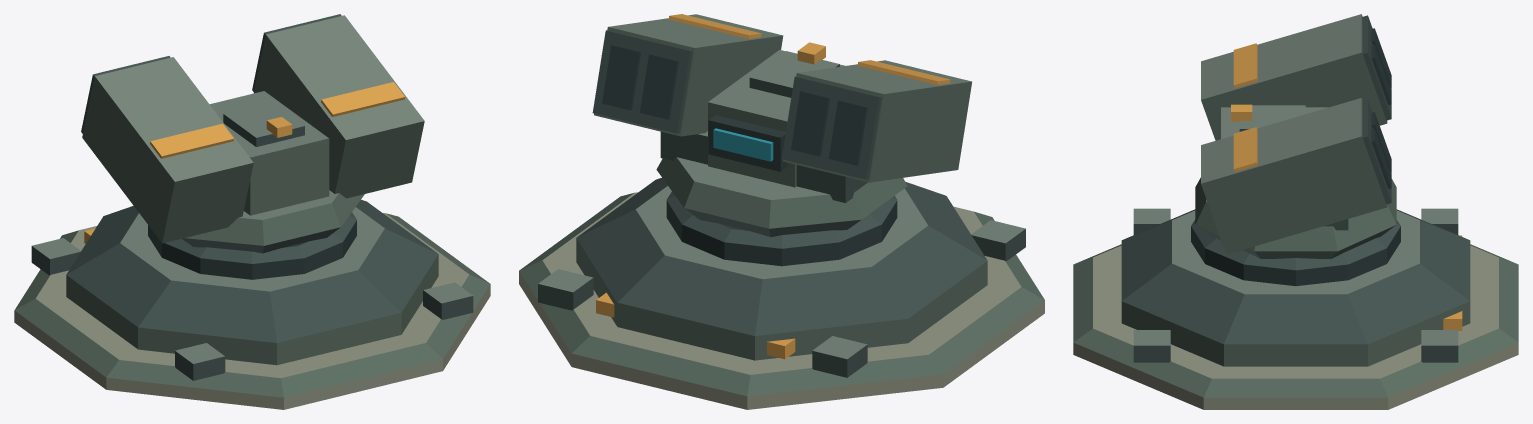
Rendered from MT-01-Sentinel.fbx.
3 renders of one model, left to right at view 1: azimuth 30°, elevation 25°; view 2: azimuth 150°, elevation 25°; view 3: azimuth 270°, elevation 25°, orthographic. The views are drawn at different scales.
Parts seen in each view (by area): view 1: Base, HeadMesh; view 2: Base, HeadMesh; view 3: Base, HeadMesh.
Part boxes in pixels (x1,y1,x2,y2): Base: (14, 199, 490, 409); HeadMesh: (81, 14, 424, 253); Base: (519, 178, 1044, 409); HeadMesh: (592, 14, 971, 237); Base: (1073, 208, 1518, 409); HeadMesh: (1195, 14, 1396, 258).
Size of the model in its own units: 1146 by 683 by 1146.
